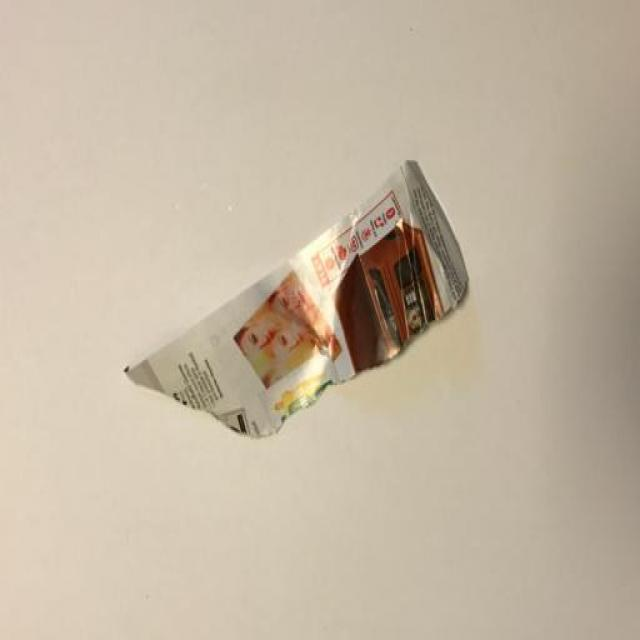paper: (112, 155, 489, 492)
